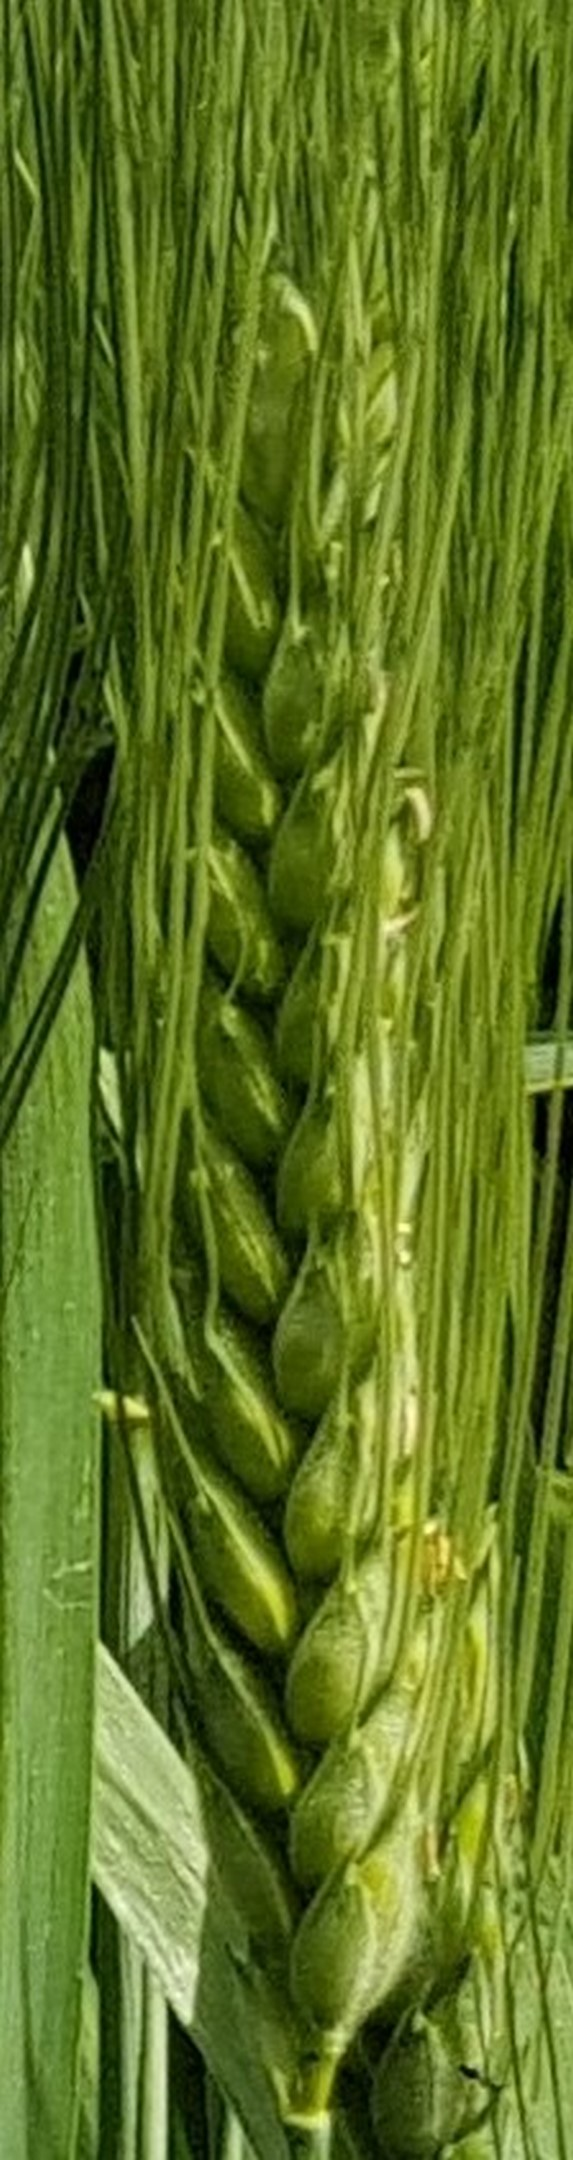Healthy Wheat: (87, 298, 485, 2008)
